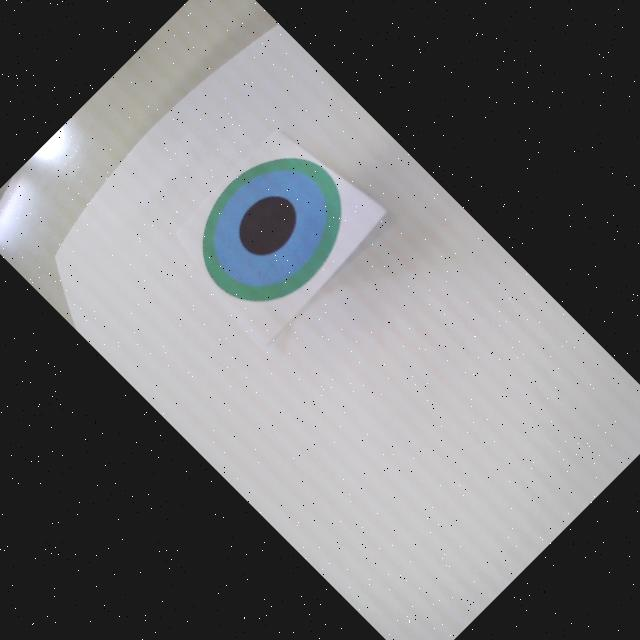COGNITIVE: (170, 128, 372, 330)
